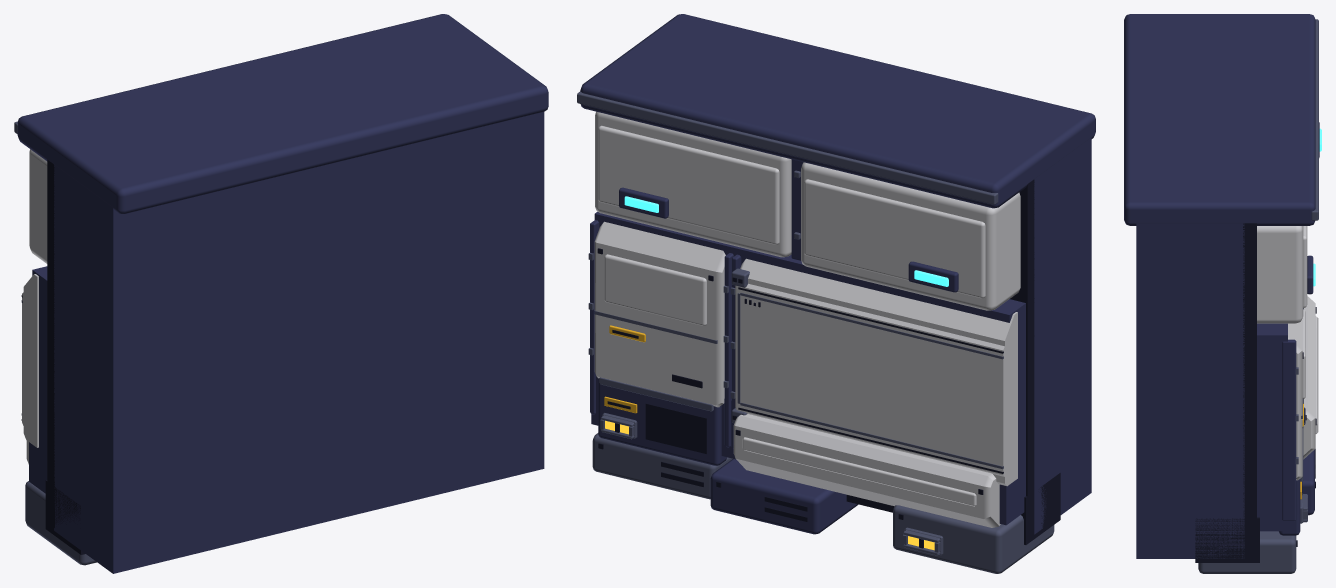
The model's file is hull.bay.plate_large.canopy_sill.none.plate.w2.950.s2.k-1.25.t-0.95_0.42_1.3_1.85.glb.
3 views of the same model, side by side, from view 1: azimuth 30°, elevation 25°; view 2: azimuth 150°, elevation 25°; view 3: azimuth 270°, elevation 25° (orthographic). The views are drawn at different scales.
Visible parts, largest first — view 1: hull.bay.plate_large.canopy_sill.none.plate.w2.950.s2.k-1.25; view 2: hull.bay.plate_large.canopy_sill.none.plate.w2.950.s2.k-1.25; view 3: hull.bay.plate_large.canopy_sill.none.plate.w2.950.s2.k-1.25.
Part boxes in pixels (bbox=[...]): hull.bay.plate_large.canopy_sill.none.plate.w2.950.s2.k-1.25: bbox=[14, 14, 548, 573]; hull.bay.plate_large.canopy_sill.none.plate.w2.950.s2.k-1.25: bbox=[577, 14, 1095, 573]; hull.bay.plate_large.canopy_sill.none.plate.w2.950.s2.k-1.25: bbox=[1124, 14, 1321, 573].
Bounding box in the file's own units: 2.95 × 2.66 × 1.28.
